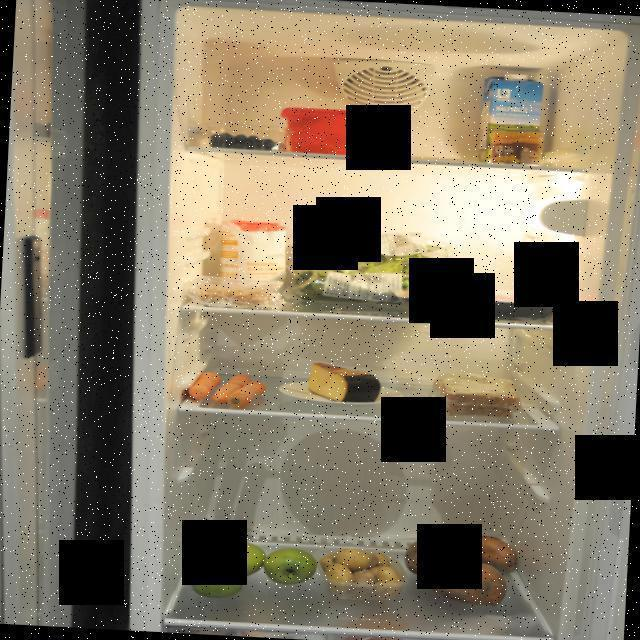apple: (188, 536, 322, 606)
blueberries: (204, 122, 286, 152)
bread: (426, 368, 528, 422)
butter: (276, 104, 386, 160)
carrot: (183, 366, 274, 409)
cheese: (306, 360, 385, 407)
ground_beef: (388, 284, 572, 324)
milk: (473, 71, 552, 168)
potato: (314, 546, 406, 604)
spinach: (286, 233, 469, 309)
sugar: (214, 215, 290, 302)
sweet_potato: (400, 527, 530, 611)
